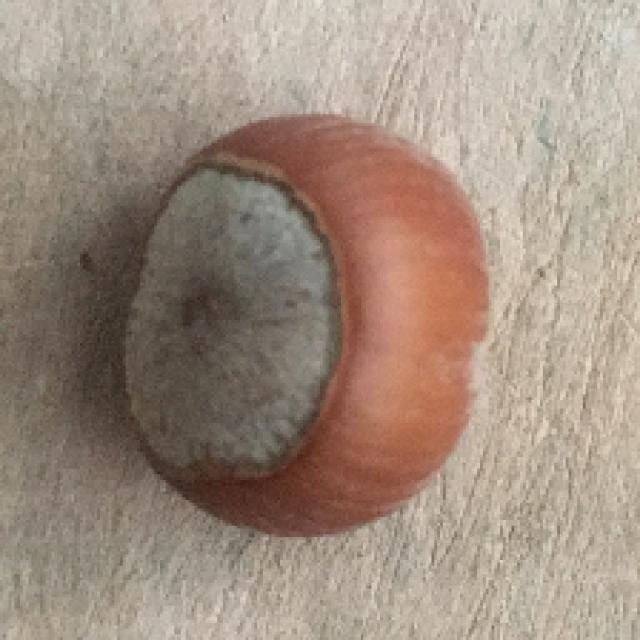qualityHazelnut: (112, 104, 502, 550)
